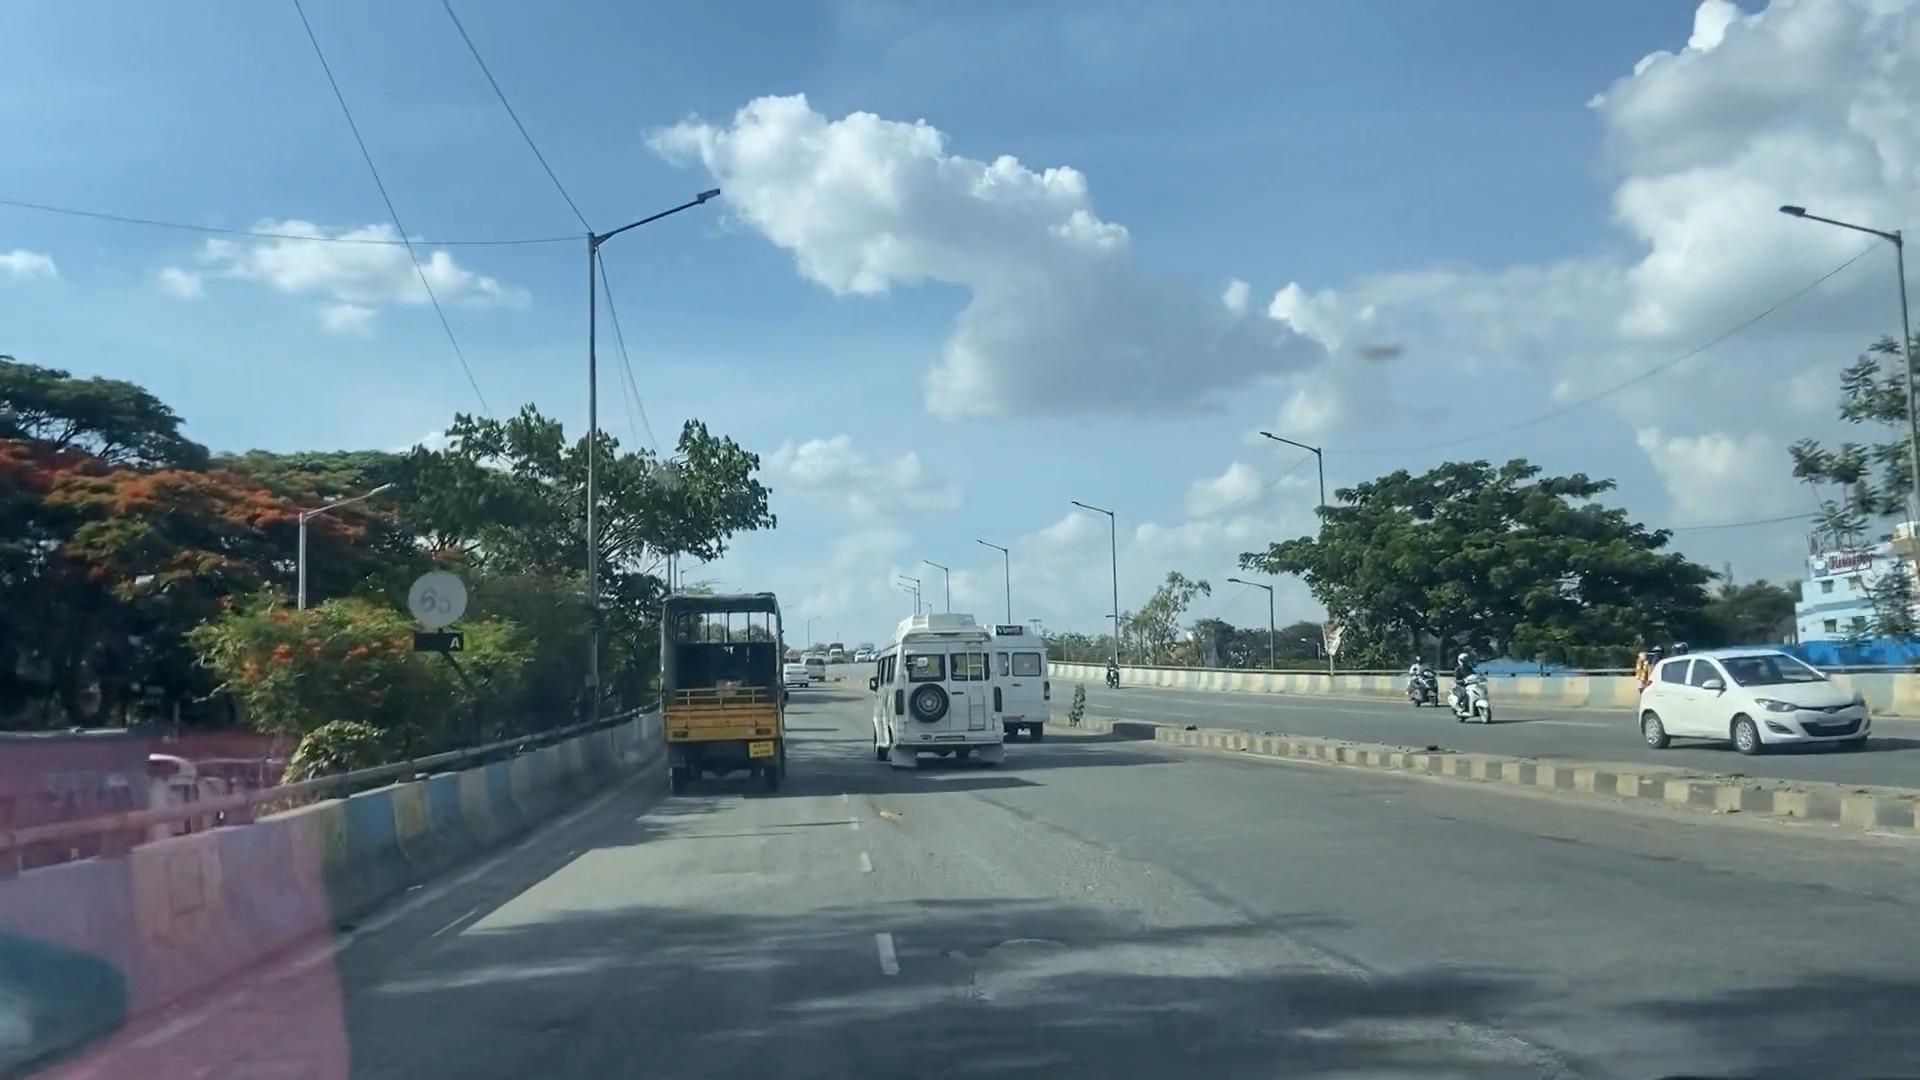HMV: (646, 587, 783, 778), (860, 607, 1000, 778), (986, 638, 1038, 735)
RoadDamages: (960, 827, 1273, 1047), (951, 873, 1080, 1031)
